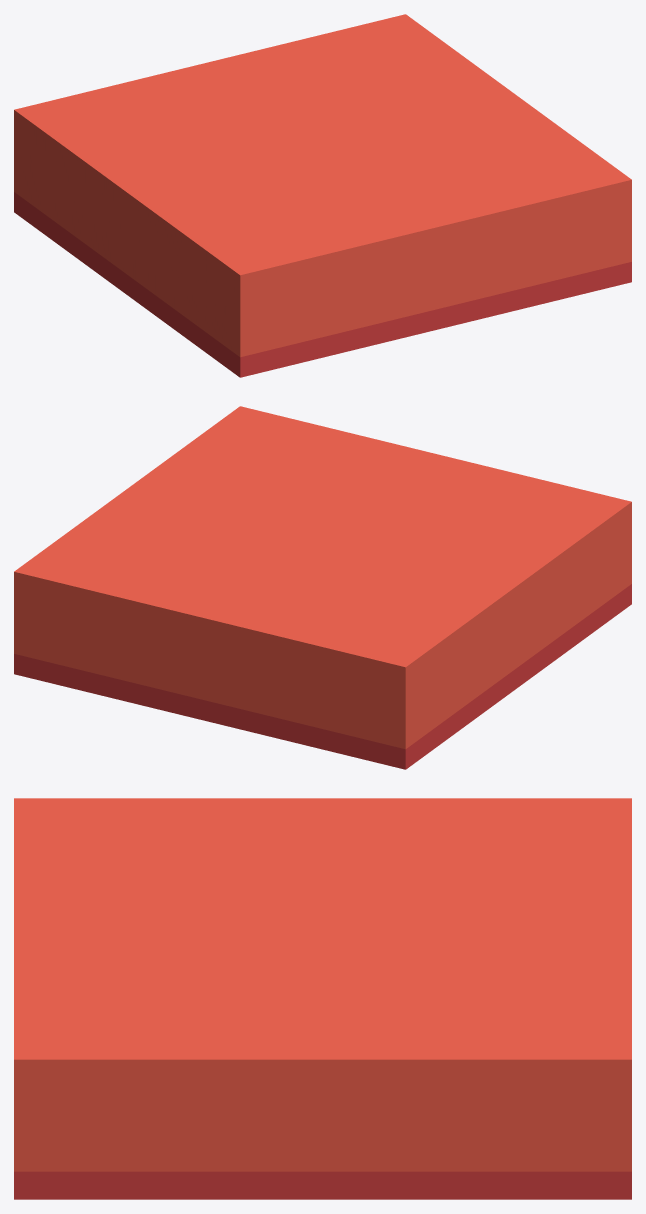
The model's file is 4x4_platform.fbx.
3 views of the same model, one above another, from view 1: azimuth 30°, elevation 25°; view 2: azimuth 150°, elevation 25°; view 3: azimuth 270°, elevation 25° (orthographic). The views are drawn at different scales.
Visible parts, largest first — view 1: block (×16); view 2: block (×16); view 3: block (×16).
Part boxes in pixels (x1,y1,x2,y2): block (×16): (14,14,631,377); block (×16): (14,406,631,769); block (×16): (14,798,631,1199).
Bounding box in the file's own units: 40 × 10 × 40.
